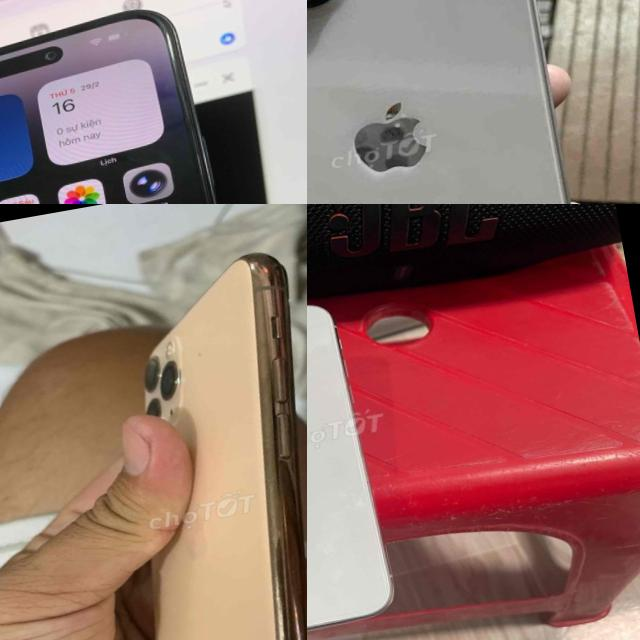gen_11: (59, 249, 307, 640)
gen_12_13: (307, 0, 607, 204)
gen_14: (0, 0, 288, 204)
gen_x_xs: (307, 278, 405, 640)
